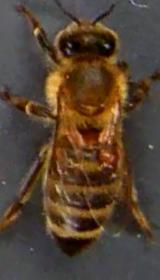varroa_mite: (95, 143, 118, 168)
